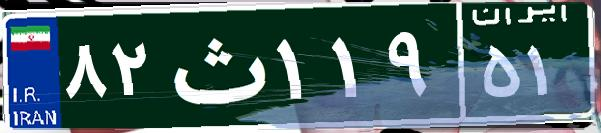1: (273, 28, 330, 110), (330, 28, 385, 110), (525, 38, 570, 115)
2: (110, 28, 158, 105)
5: (475, 38, 525, 113)
8: (57, 26, 110, 107)
9: (385, 28, 445, 110)
ث: (158, 15, 273, 115)
